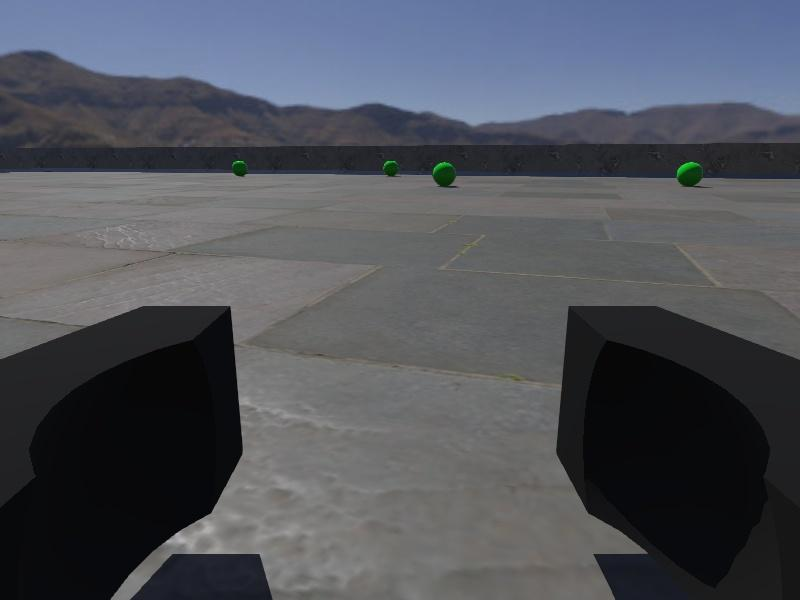green ball: (675, 159, 704, 188), (432, 160, 457, 187), (382, 159, 400, 178), (231, 159, 248, 176)
